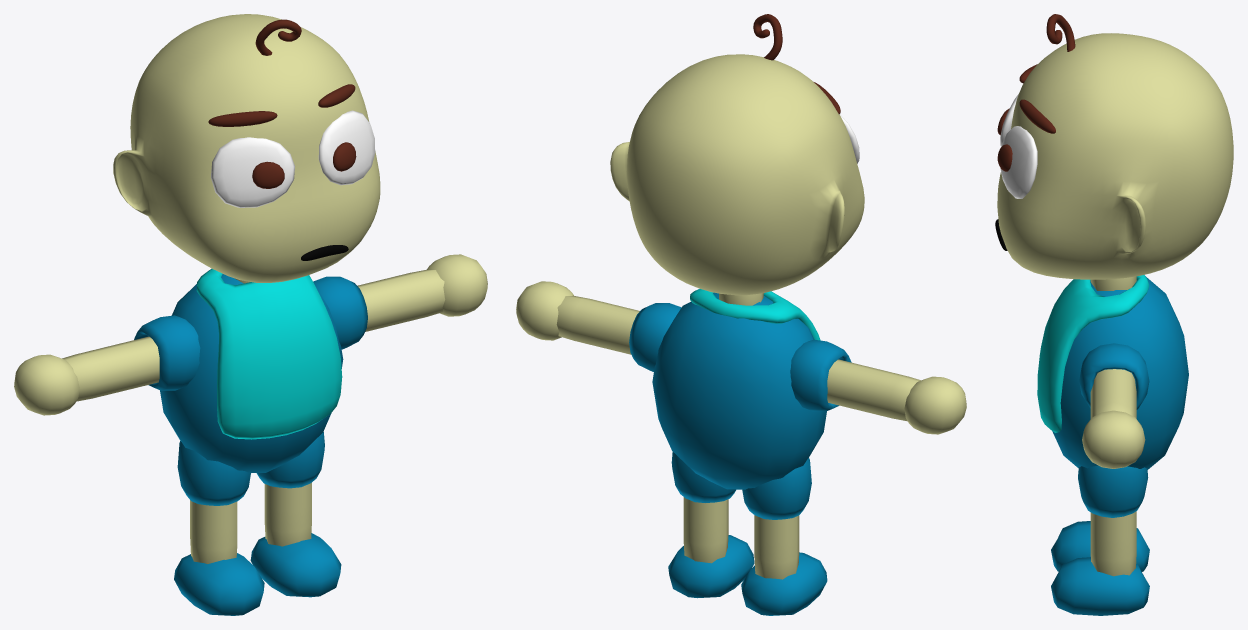
File: baby_model.fbx
The picture shows the model from 3 angles, left to right: view 1: azimuth 30°, elevation 25°; view 2: azimuth 150°, elevation 25°; view 3: azimuth 270°, elevation 25°; orthographic projection. The views are drawn at different scales.
Visible parts, largest first — view 1: Baby; view 2: Baby; view 3: Baby.
Part boxes in pixels (x1=…): Baby: x1=14, y1=14, x2=487, y2=615; Baby: x1=516, y1=14, x2=966, y2=615; Baby: x1=995, y1=14, x2=1233, y2=615.
Size of the model in its own units: 107 by 130 by 48.84.
